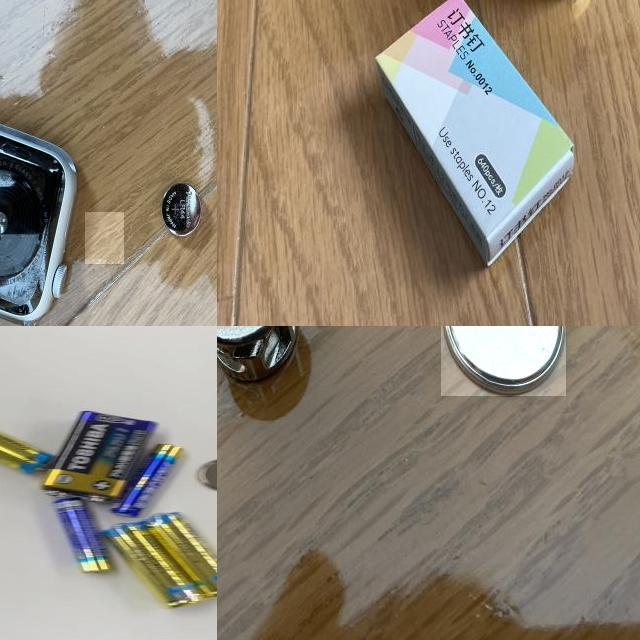9V: (41, 410, 161, 504)
